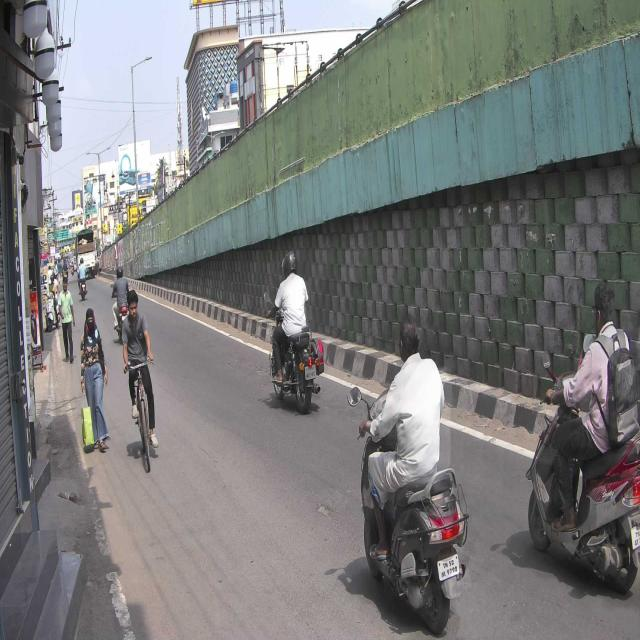single_rider: (358, 313, 470, 634), (527, 279, 640, 593), (262, 248, 326, 414)
